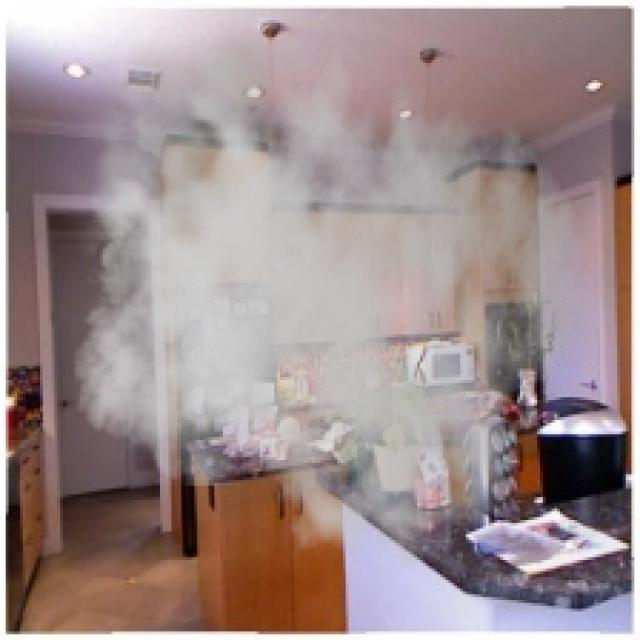Smoke: (57, 14, 586, 572)
